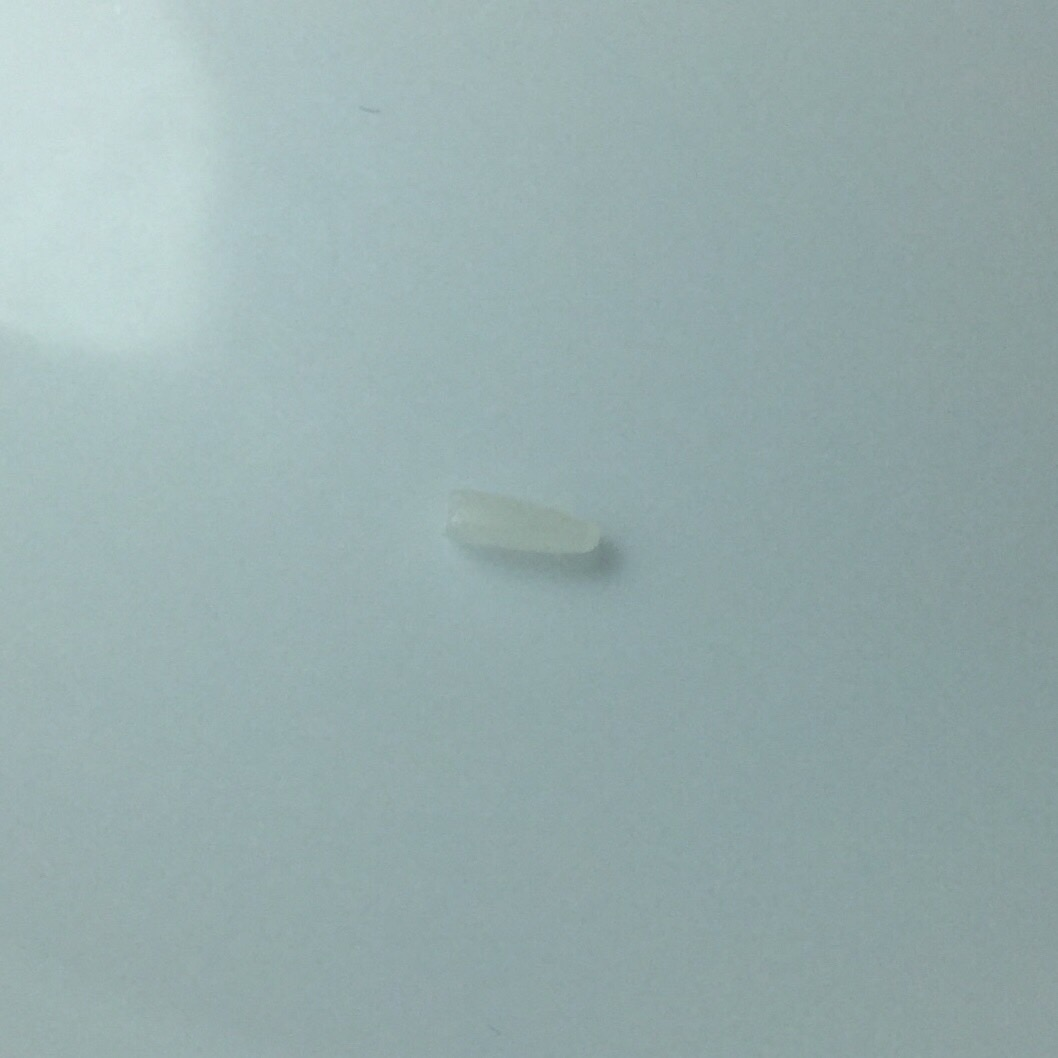Gao Tam: (445, 469, 608, 574)
